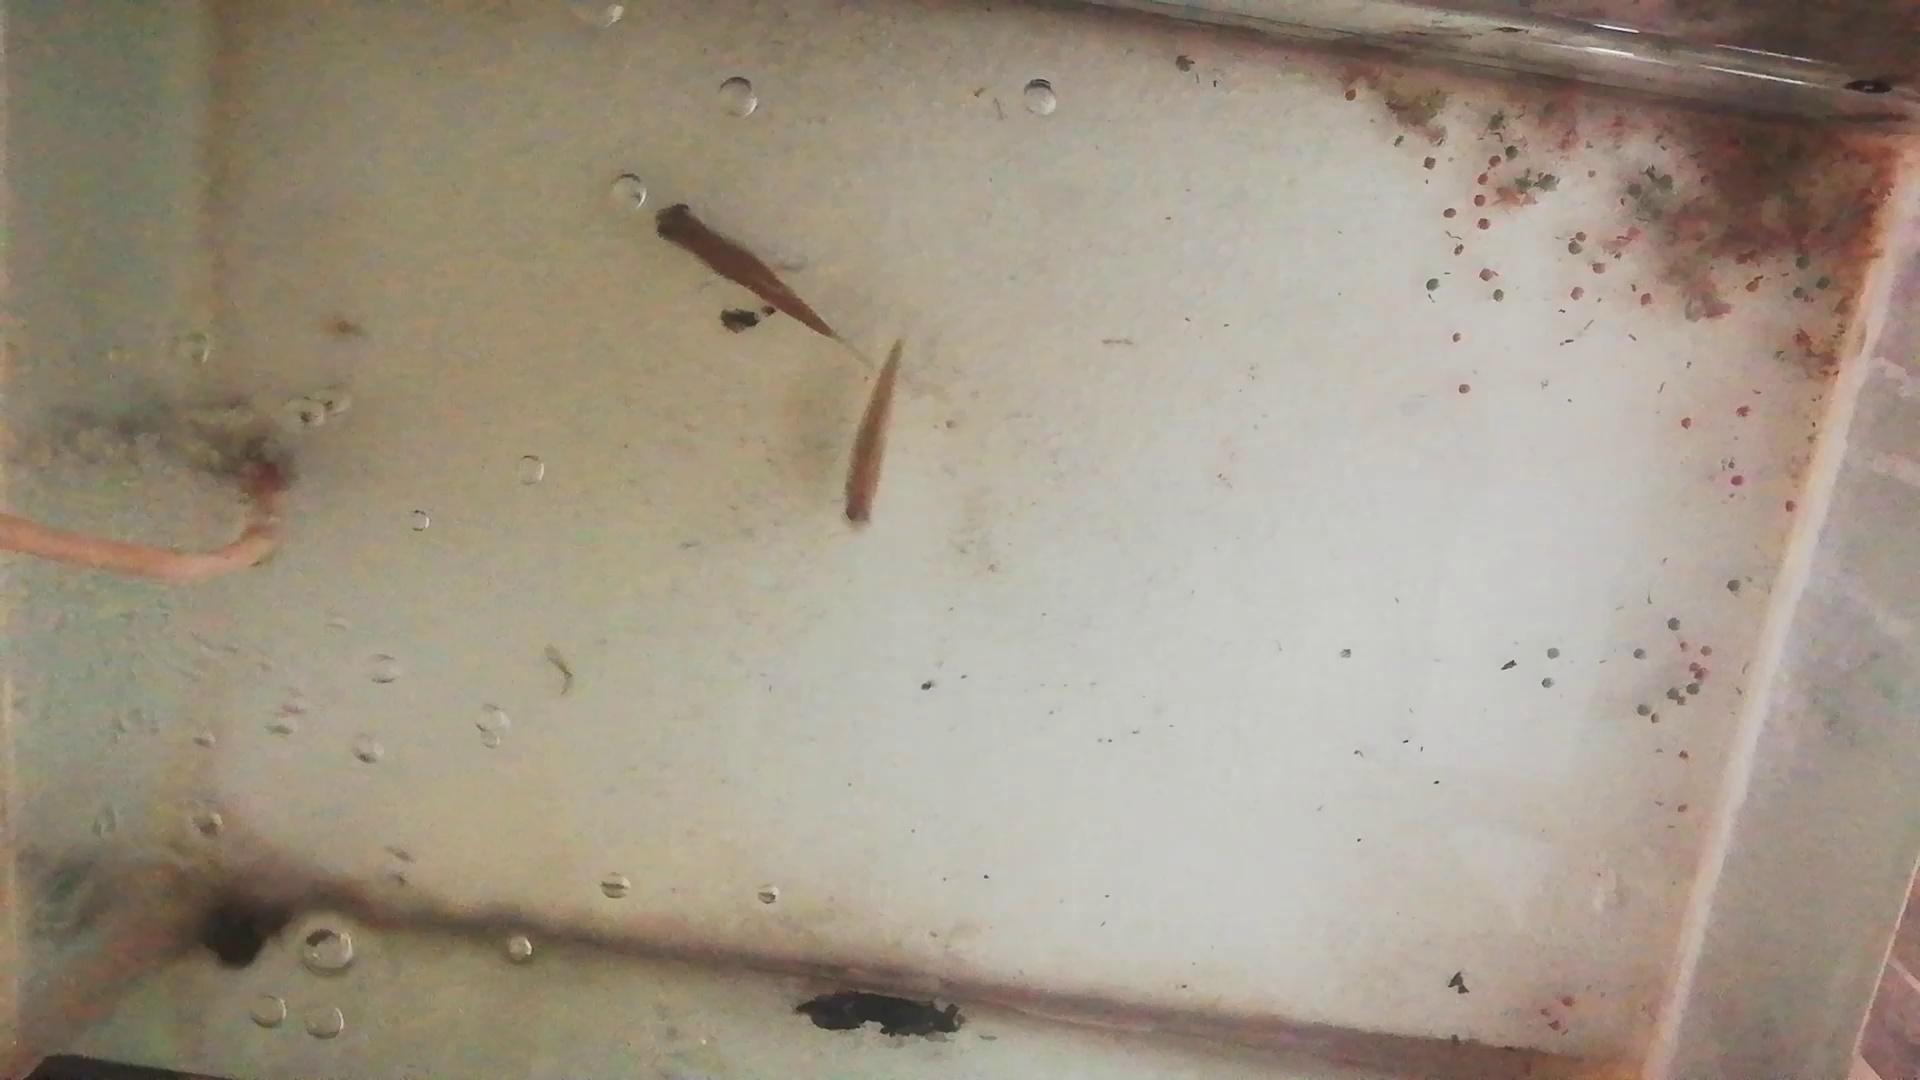fish: (651, 208, 837, 349), (839, 342, 903, 530)
